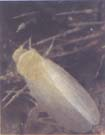whitefly: (5, 36, 101, 135)
